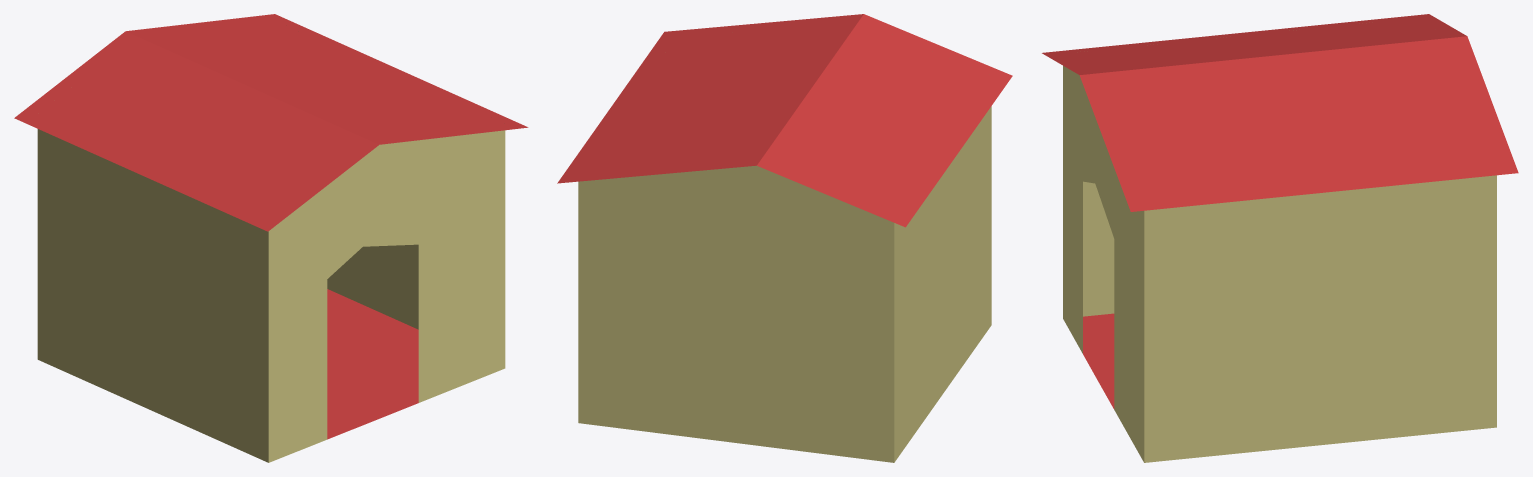
3 views of the same model, side by side, from view 1: azimuth 30°, elevation 25°; view 2: azimuth 150°, elevation 25°; view 3: azimuth 270°, elevation 25° (orthographic). The views are drawn at different scales.
Size of the model in its own units: 13 by 13.24 by 9.36.
